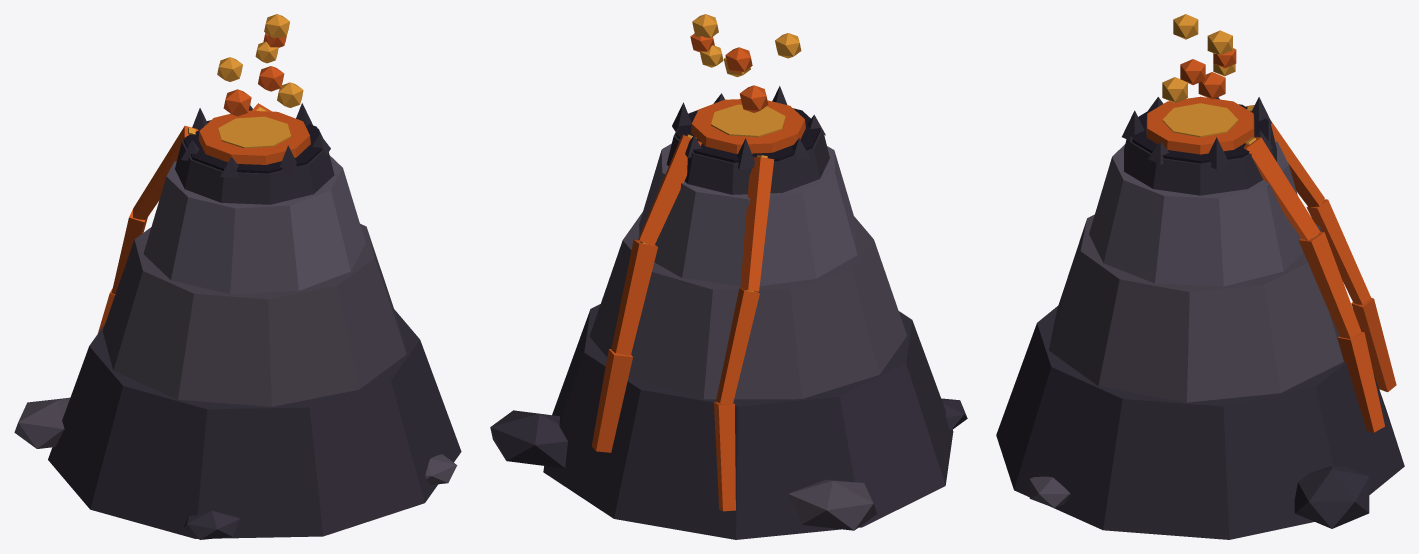
File: Decor_DragonLair_Volcano.fbx
3 views of the same model, side by side, from view 1: azimuth 30°, elevation 25°; view 2: azimuth 150°, elevation 25°; view 3: azimuth 270°, elevation 25° (orthographic). The views are drawn at different scales.
Parts seen in each view (by area): view 1: Volcano_Body; view 2: Volcano_Body; view 3: Volcano_Body.
Boxes of the visible parts, x1,y1,x2,y2 form: Volcano_Body: (14, 14, 461, 539); Volcano_Body: (490, 14, 967, 539); Volcano_Body: (996, 14, 1404, 539).
Size of the model in its own units: 29.5 by 33 by 28.
